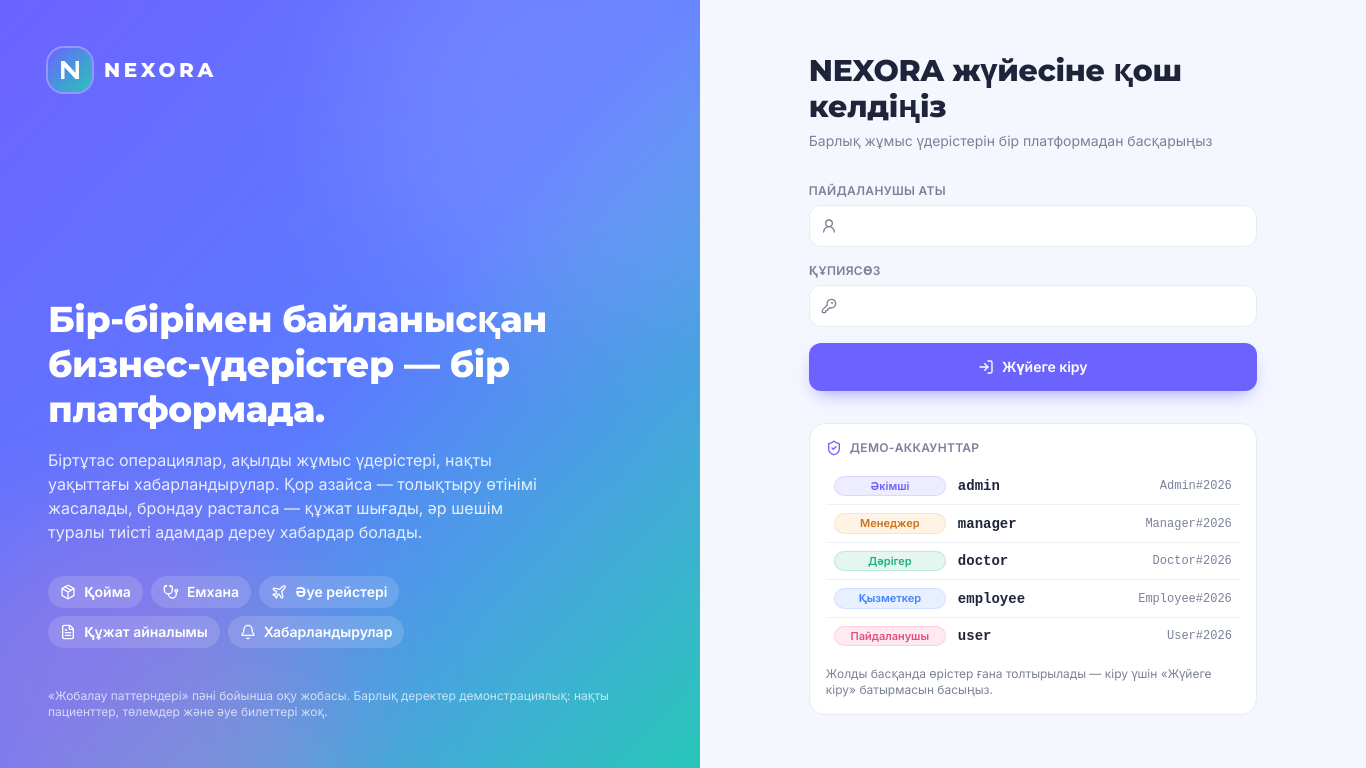
it: LoginPage (қазақша) › demo row only fills the fields and never logs in by itself
Click the button with aria-label "Менеджер аккаунтымен". click: (890, 524)
box: [826, 505, 1240, 542]
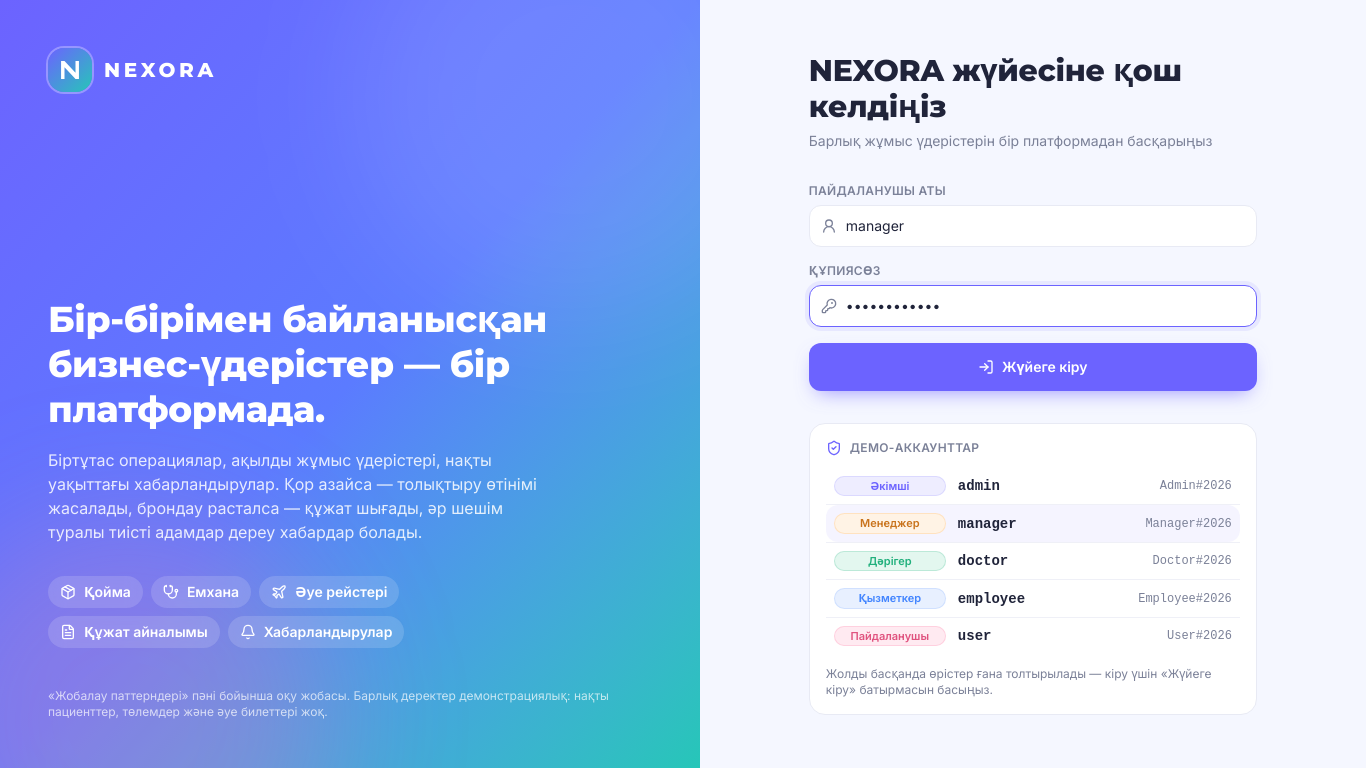
Check: the field labelled "Пайдаланушы аты" holds "manager", box [809, 205, 1257, 247]
Check: the password field labelled "Құпиясөз" holds "Manager#2026", box [809, 285, 1257, 327]
